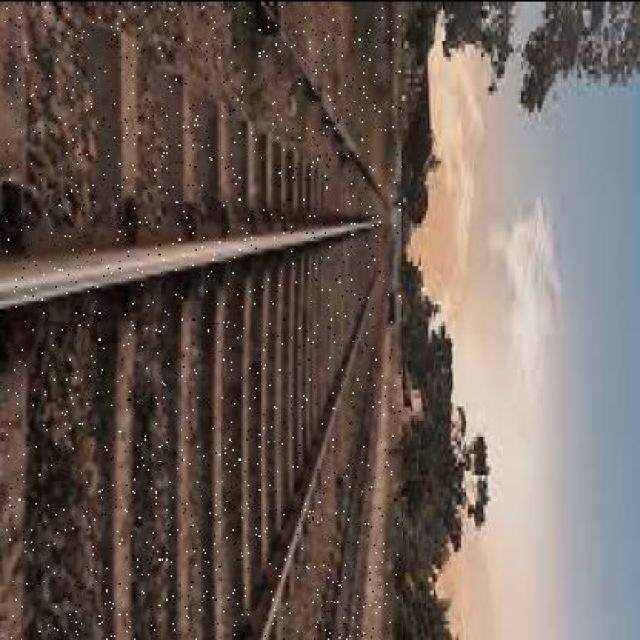rail: (5, 5, 400, 639)
